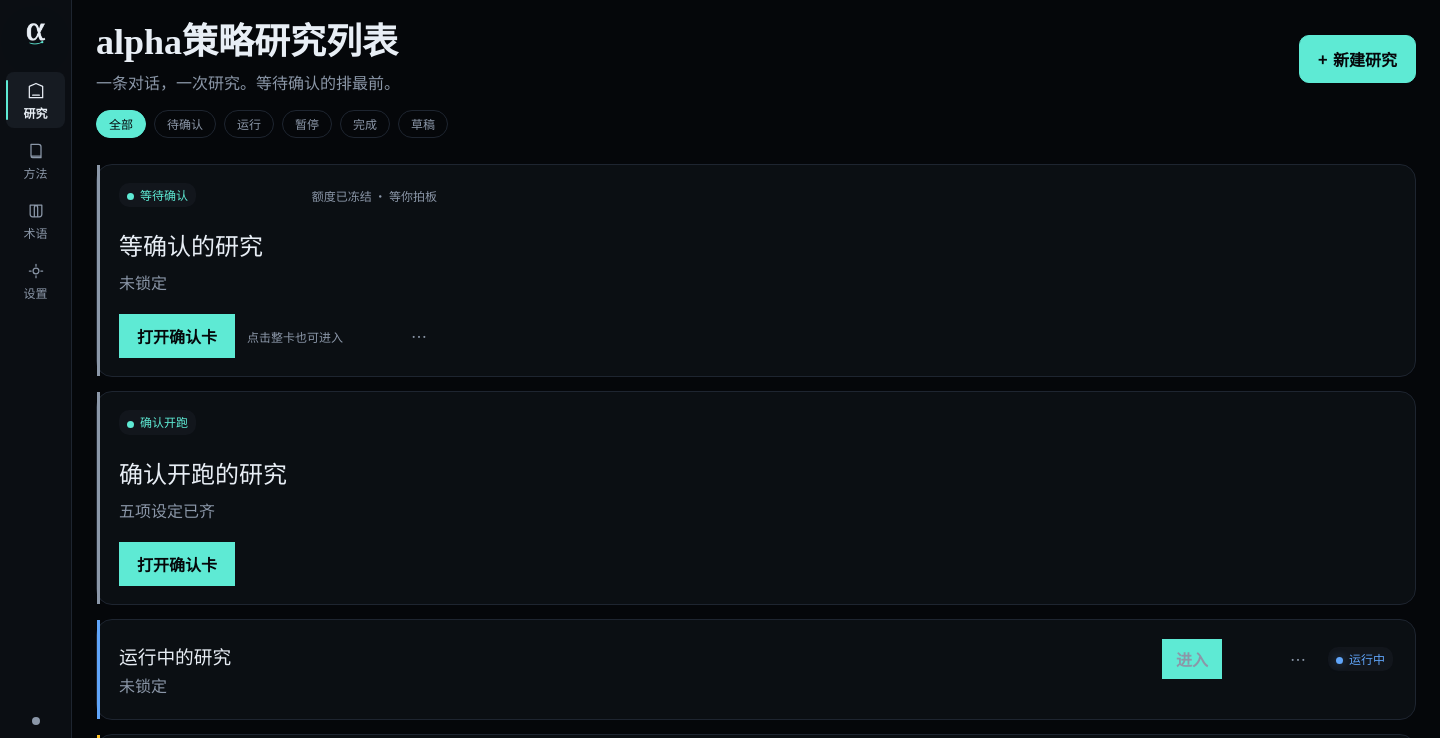
Test: research list filters › defaults to All and filters by the existing status
Expected: the element with test id "research-list-filters" shows "全部", [96,110,146,138]
Expected: the element with test id "research-list-filters" shows "待确认", [154,110,216,138]
Click the button with test id "research-list-filter-paused" at [307, 124], box [282,110,332,138]
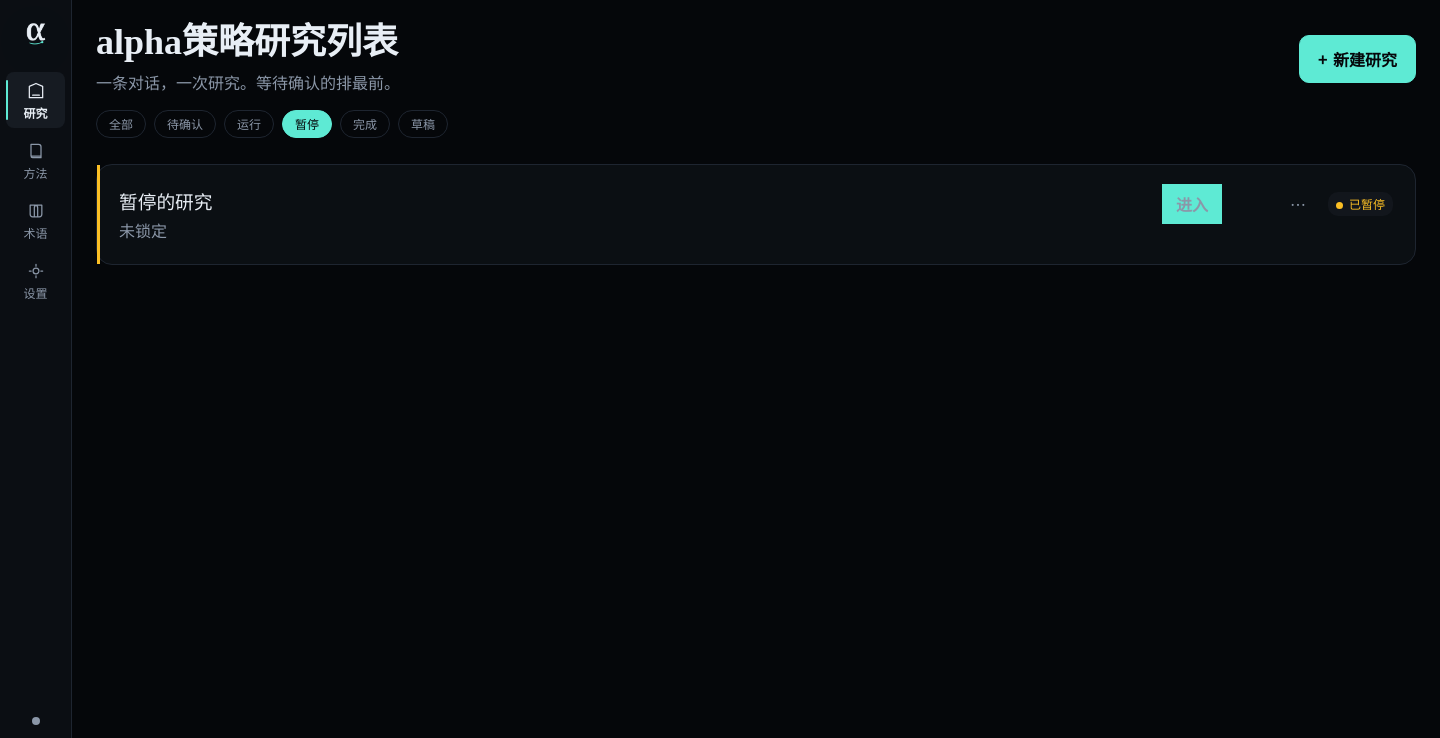
Expected: the heading "暂停的研究" is shown, [119,192,212,213]
Expected: the element with test id "awaiting-pinned-card" is gone
Click the button with test id "research-list-filter-pending" at [185, 124], box [154,110,216,138]
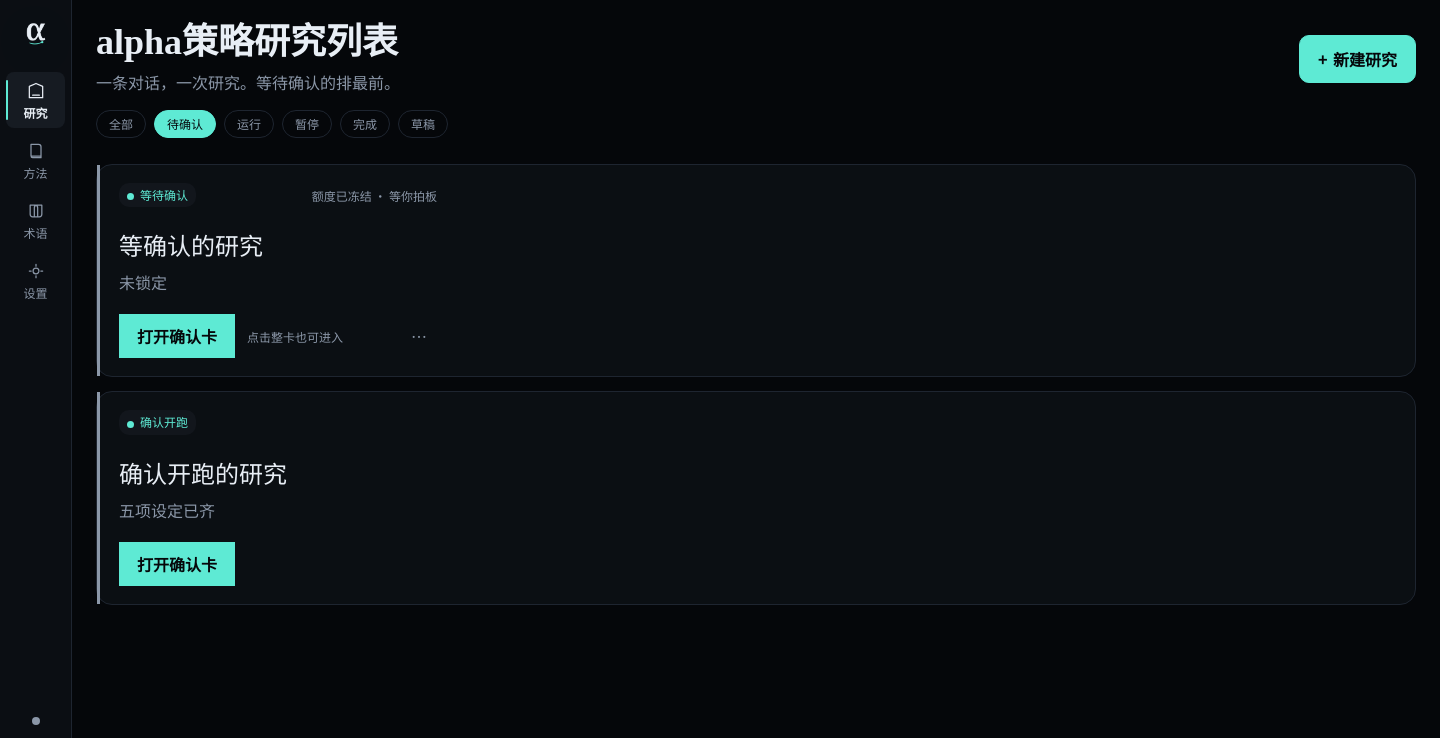
Expected: the element with test id "research-row" is gone
Expected: the element with test id "awaiting-pinned-card" is shown, [96,164,1416,377]
Expected: the element with test id "confirm-pinned-card" is shown, [96,391,1416,605]
Click the button with test id "research-list-filter-done" at [365, 124], box [340,110,390,138]
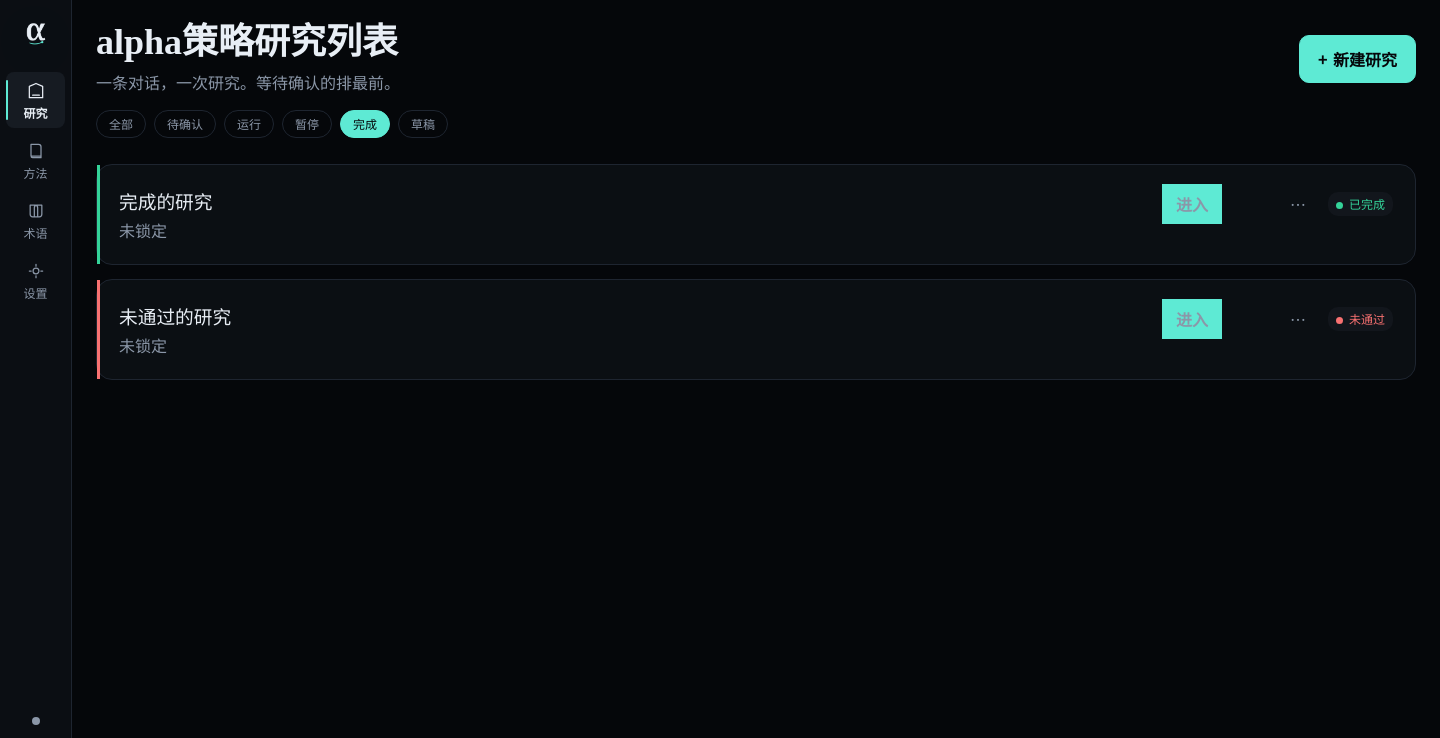
Expected: the heading "完成的研究" is shown, [119,192,212,213]
Expected: the heading "未通过的研究" is shown, [119,307,231,328]
Click the button with test id "research-list-filter-draft" at [423, 124], box [398,110,448,138]
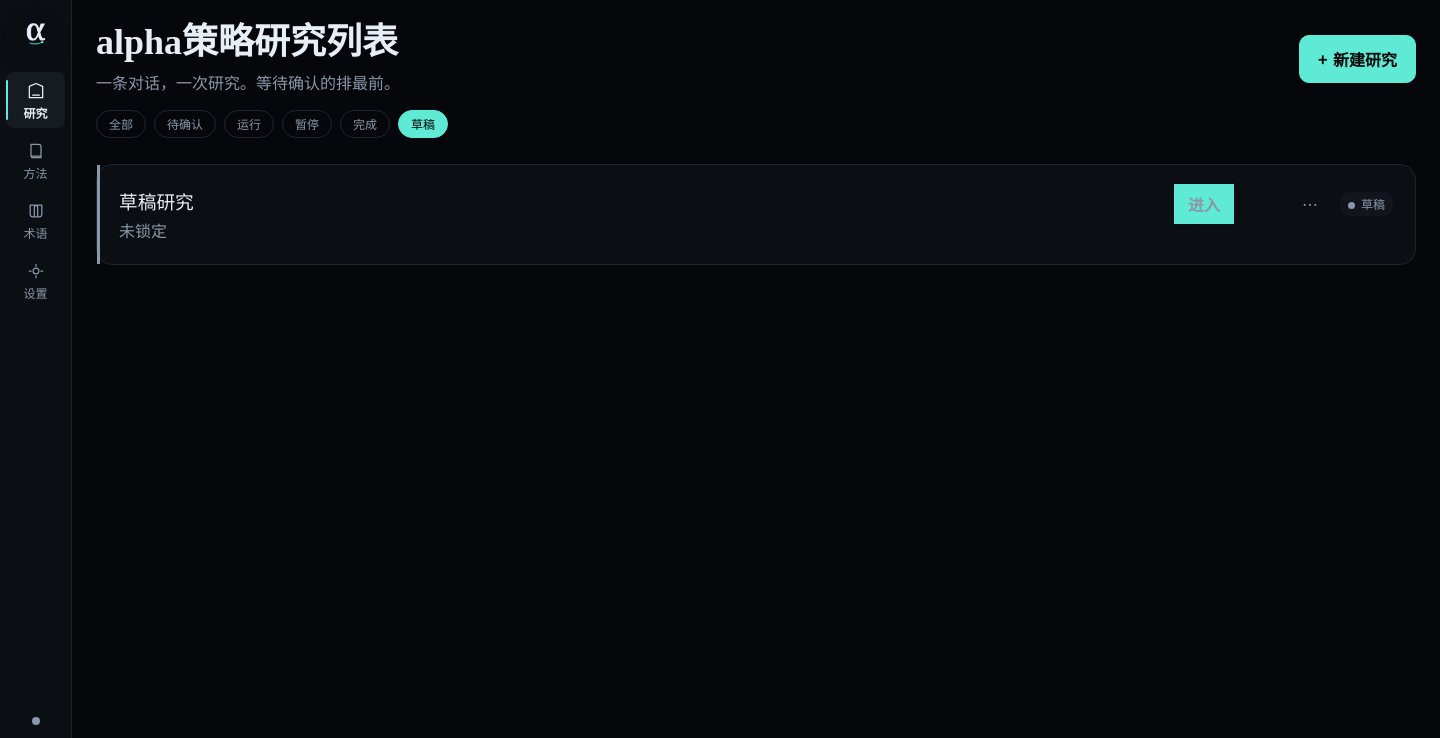
Expected: the heading "草稿研究" is shown, [119,192,194,213]
